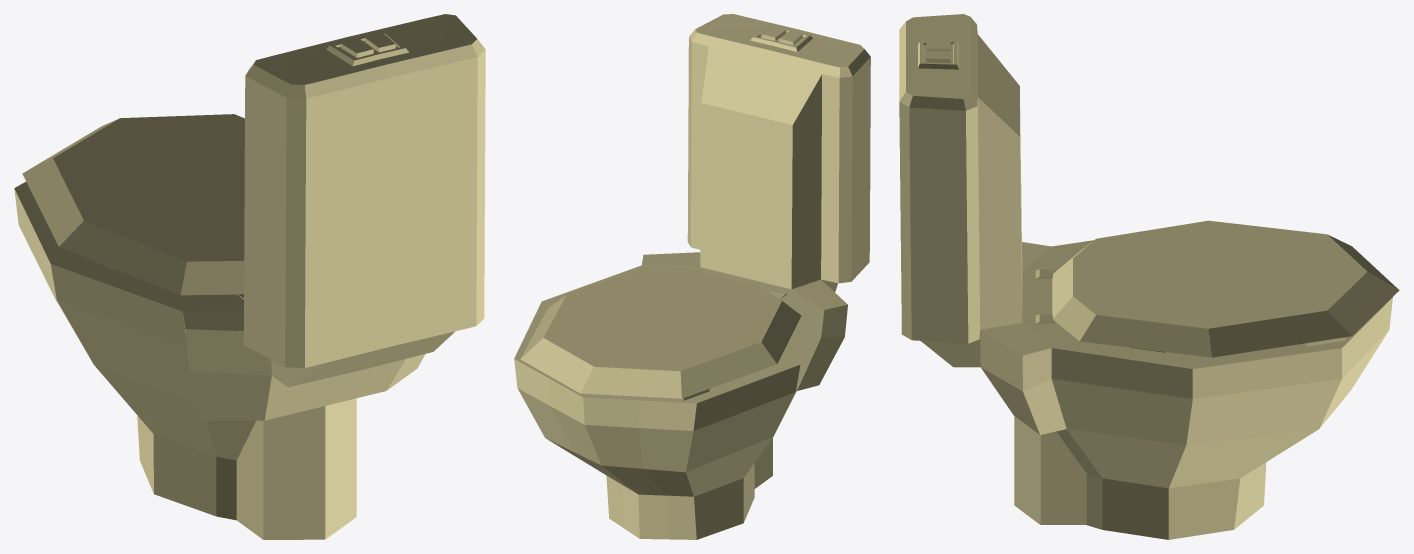
Rendered from Toilet 3.fbx.
3 renders of one model, left to right at view 1: azimuth 30°, elevation 25°; view 2: azimuth 150°, elevation 25°; view 3: azimuth 270°, elevation 25°, orthographic. The views are drawn at different scales.
Parts seen in each view (by area): view 1: Toilet; view 2: Toilet; view 3: Toilet.
Boxes of the visible parts, <box> form: Toilet: <box>14,14,485,539</box>; Toilet: <box>514,14,870,539</box>; Toilet: <box>899,14,1399,539</box>.
Size of the model in its own units: 1.29 by 1.3 by 0.8785.
